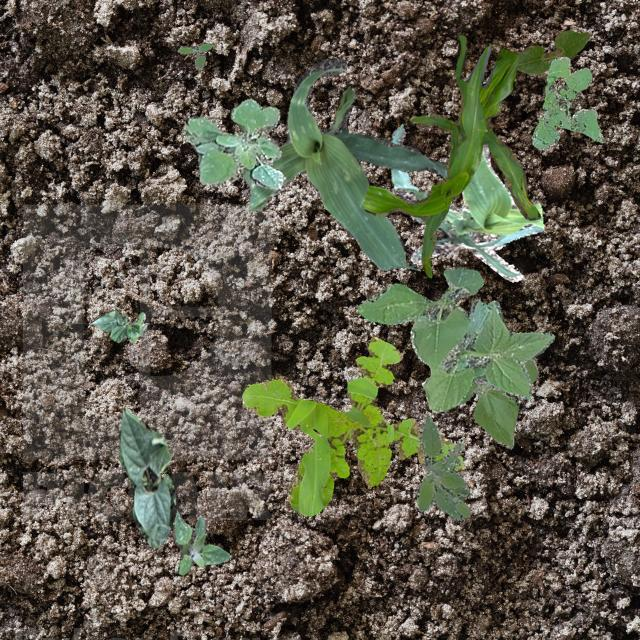crop: (242, 58, 446, 270), (362, 34, 540, 276), (390, 122, 542, 282), (116, 406, 174, 546), (458, 358, 538, 448), (514, 30, 588, 74), (88, 309, 146, 342)
weed: (241, 336, 464, 514), (356, 266, 554, 412), (184, 98, 284, 190), (530, 55, 604, 148), (416, 414, 470, 520), (172, 511, 230, 574), (177, 42, 210, 70)
